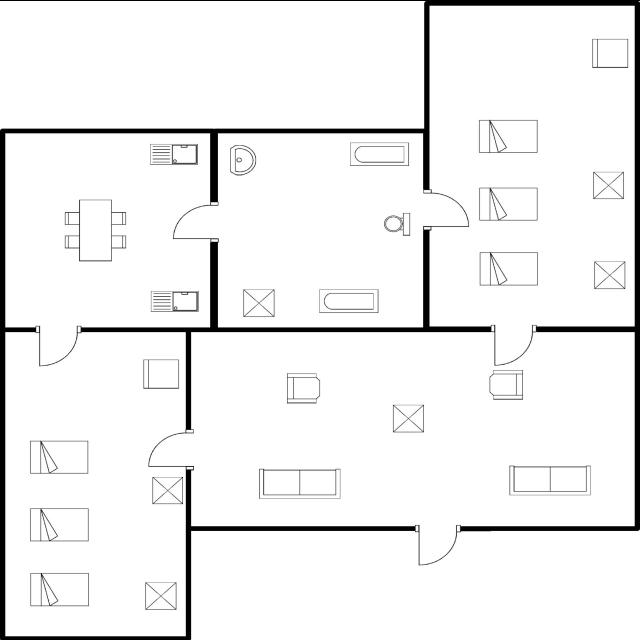armchair: (484, 366, 528, 404), (282, 369, 326, 406)
bed: (25, 567, 93, 611), (26, 503, 92, 545), (25, 438, 93, 478), (474, 248, 542, 288), (475, 184, 542, 224), (475, 114, 539, 155)
coffee_table: (239, 284, 279, 322), (388, 399, 428, 436), (588, 166, 628, 202), (148, 473, 184, 509), (592, 256, 628, 292), (142, 579, 180, 613)
dining_table: (59, 194, 131, 268)
large_sink: (378, 208, 414, 239)
large_sofa: (254, 464, 344, 504), (504, 461, 596, 499)
sink: (146, 140, 203, 168), (146, 287, 202, 315)
small_sink: (226, 142, 262, 180)
small_sofa: (586, 34, 632, 74), (139, 354, 181, 393)
tub: (314, 282, 384, 318), (345, 138, 415, 171)
